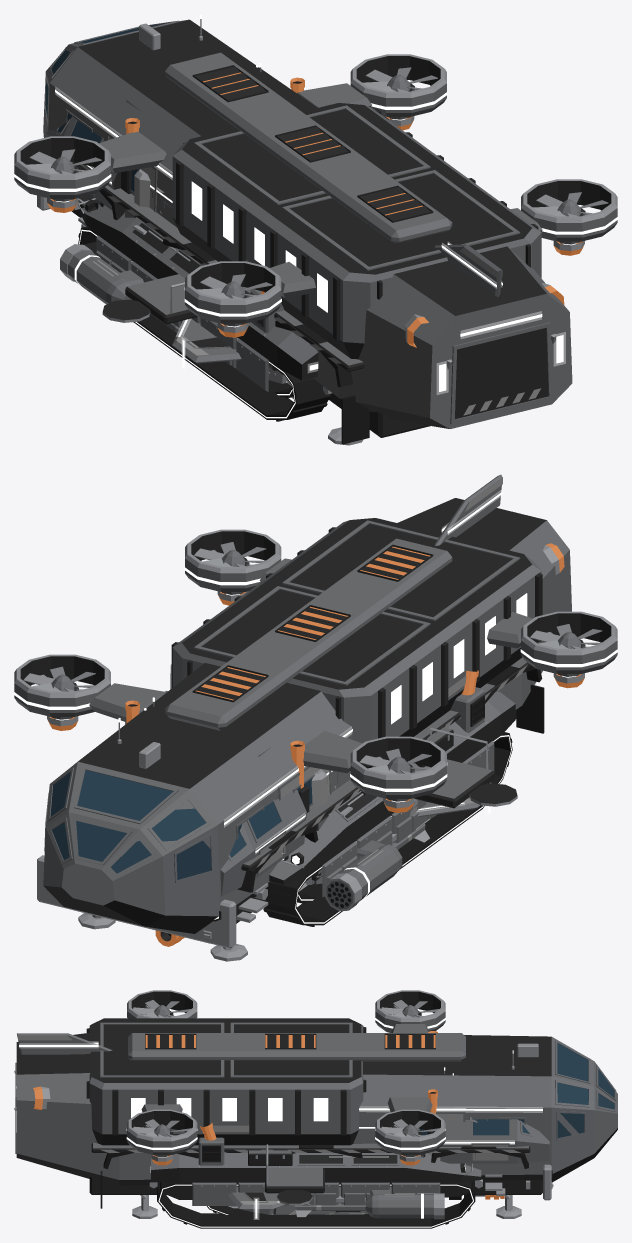
File: vehicles.glb
The picture shows the model from 3 angles, top to bottom: view 1: azimuth 30°, elevation 25°; view 2: azimuth 150°, elevation 25°; view 3: azimuth 270°, elevation 25°; orthographic projection. The views are drawn at different scales.
Visible parts, largest first — view 1: dropship_hull, harvester_hull, heavy_tank_hull, vtol_body, interceptor_hull; view 2: dropship_hull, harvester_hull, heavy_tank_hull, vtol_body, interceptor_hull; view 3: dropship_hull, harvester_hull, heavy_tank_hull, vtol_body, interceptor_hull, heavy_tank_turret.
Part boxes in pixels (bbox=[...]): dropship_hull: bbox=[14, 14, 617, 445]; harvester_hull: bbox=[37, 65, 541, 444]; heavy_tank_hull: bbox=[78, 198, 337, 421]; vtol_body: bbox=[60, 244, 291, 386]; interceptor_hull: bbox=[150, 313, 241, 369]; dropship_hull: bbox=[14, 474, 617, 961]; harvester_hull: bbox=[37, 518, 544, 948]; heavy_tank_hull: bbox=[260, 670, 515, 926]; vtol_body: bbox=[298, 800, 417, 911]; interceptor_hull: bbox=[392, 783, 490, 849]; dropship_hull: bbox=[14, 990, 617, 1218]; harvester_hull: bbox=[86, 1018, 553, 1208]; heavy_tank_hull: bbox=[150, 1123, 481, 1228]; vtol_body: bbox=[228, 1186, 444, 1219]; interceptor_hull: bbox=[228, 1186, 365, 1219]; heavy_tank_turret: bbox=[231, 1205, 367, 1214].
Size of the model in its own units: 8.26 by 4.94 by 14.11.
